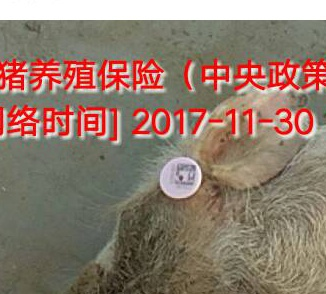text: (147, 147, 218, 211)
